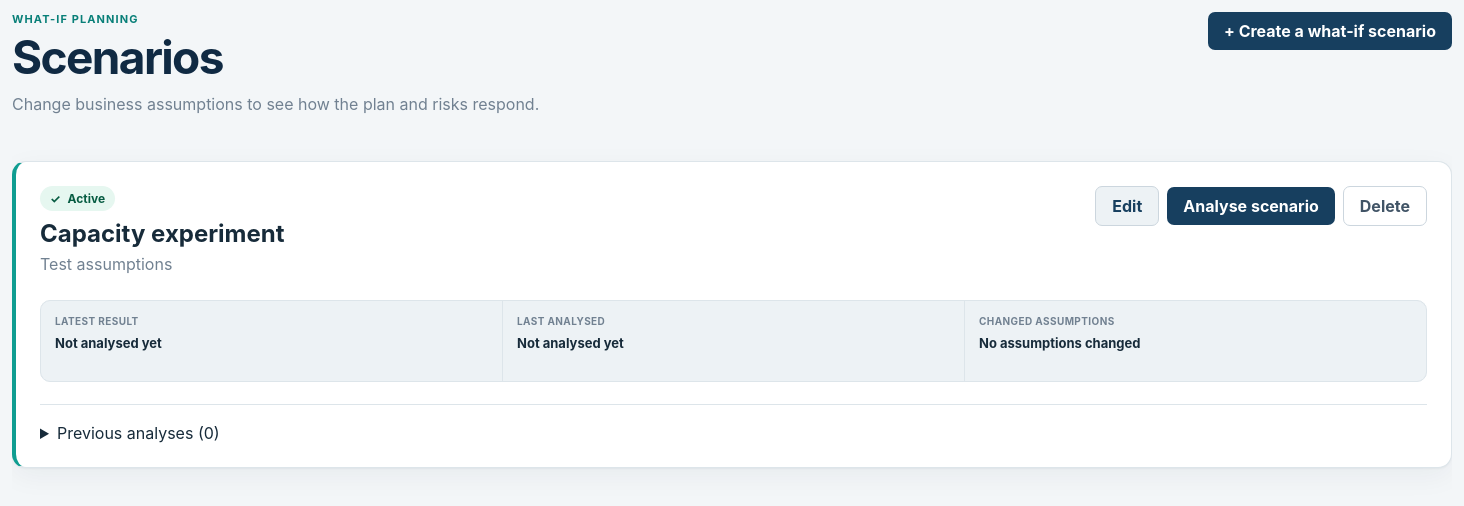
it: ScenariosPage › runs a scenario and displays the successful result
Click the button "Analyse scenario": (1251, 206) [1167,187,1335,225]
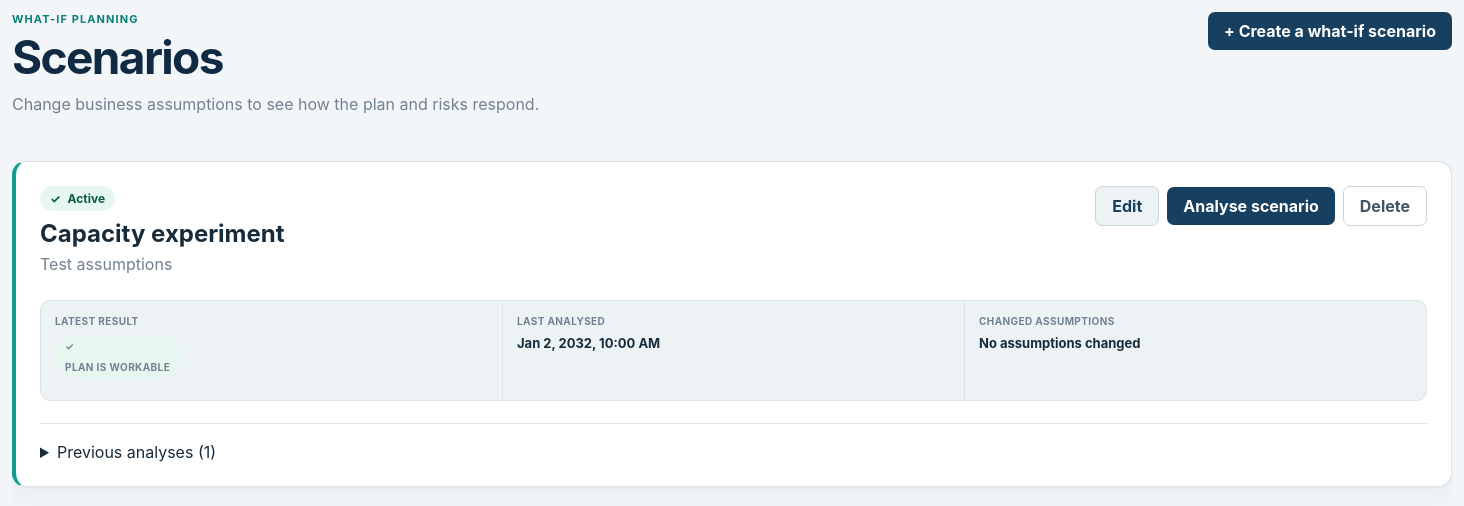
Expected: the text "Plan is workable" is shown 2 times
